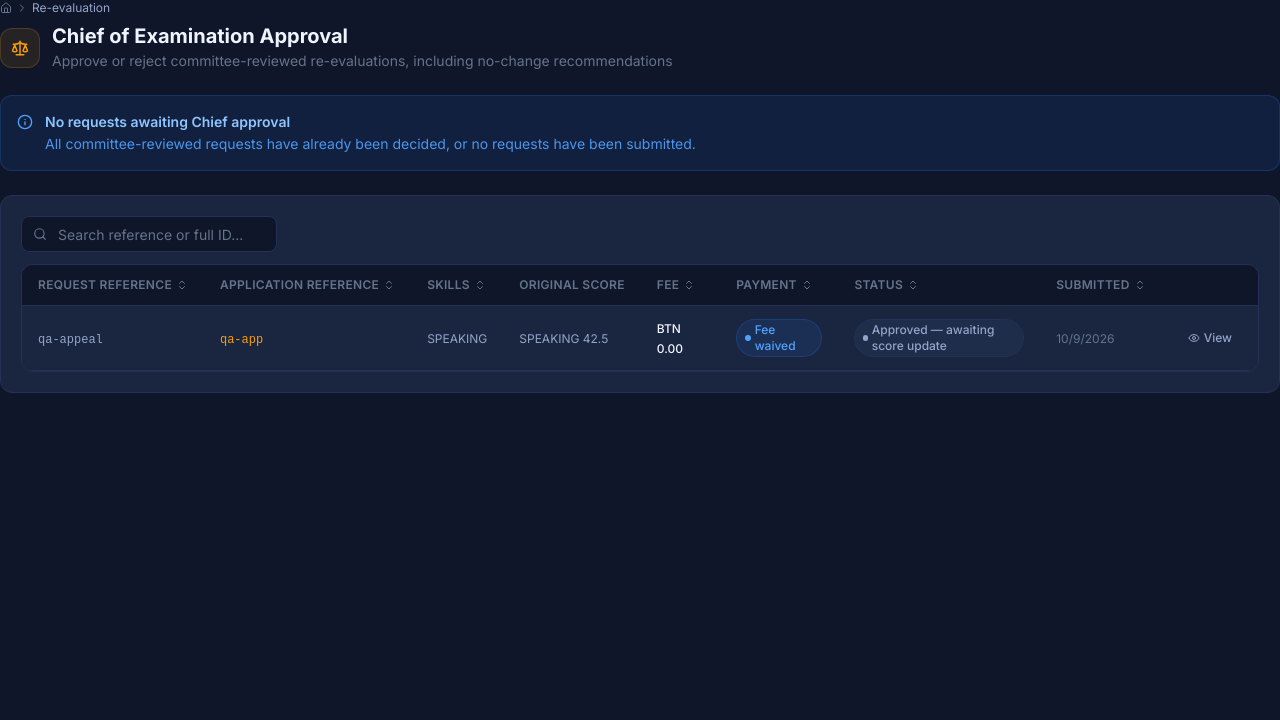
Test: keeps Outcome pending when approval succeeded but score application is still pending
The width and height of the screenshot is (1280, 720).
Step 1. Click the button "View" → point(1210, 338), box [1178,324,1242,352]
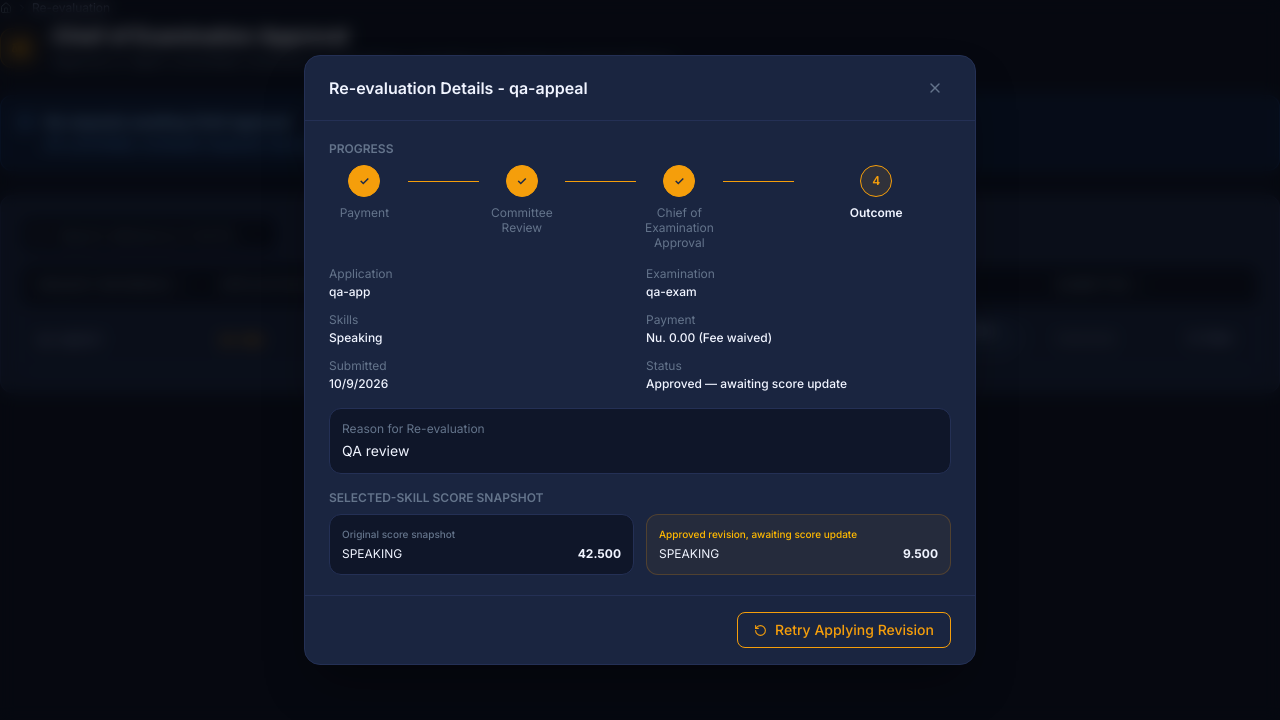
Expected: the text "✓" is shown 3 times, [348,165,380,197]; [506,165,538,197]; [663,165,695,197]
Expected: the text "Approved revision, awaiting score update" is shown, [659,528,857,540]
